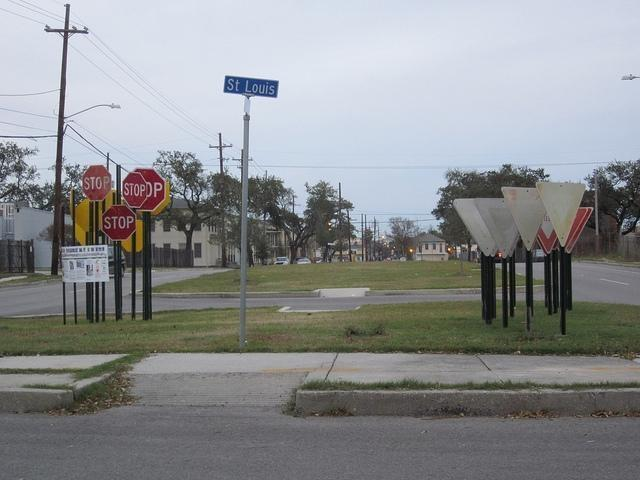car: (274, 256, 290, 264), (296, 258, 312, 264)
